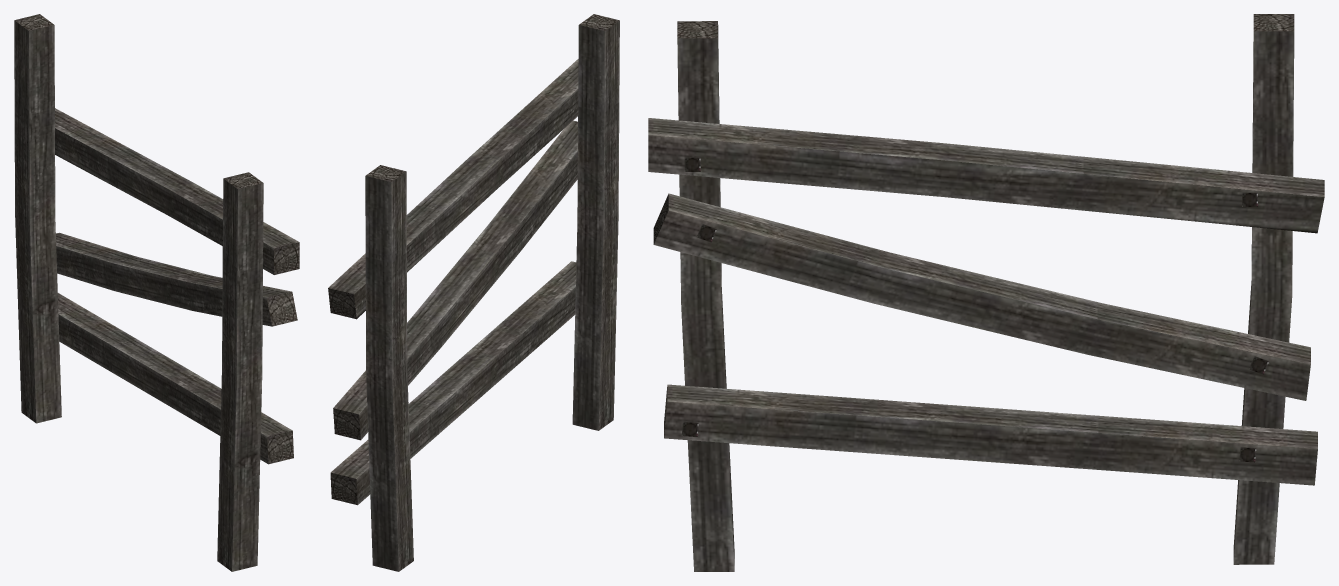
File: eso_gu8_WoodBoards1-transformed.glb
3 renders of one model, left to right at view 1: azimuth 30°, elevation 25°; view 2: azimuth 150°, elevation 25°; view 3: azimuth 270°, elevation 25°, orthographic. The views are drawn at different scales.
Parts seen in each view (by area): view 1: default; view 2: default; view 3: default.
Boxes of the visible parts, bbox=[...] form: default: bbox=[14, 14, 299, 571]; default: bbox=[328, 14, 619, 571]; default: bbox=[648, 14, 1324, 571].
Size of the model in its own units: 0.6653 by 4.85 by 5.5.
1 material, 1 textured.
